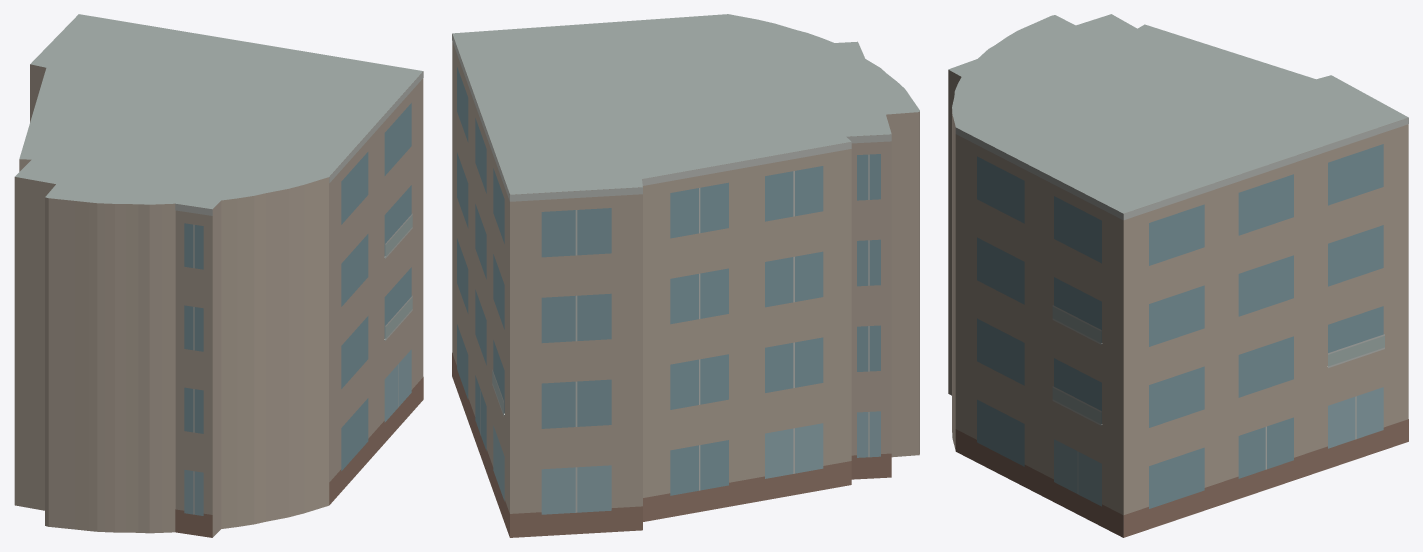
File: survey-upis-32939359.glb
3 renders of one model, left to right at view 1: azimuth 30°, elevation 25°; view 2: azimuth 150°, elevation 25°; view 3: azimuth 270°, elevation 25°, orthographic. The views are drawn at different scales.
Visible parts, largest first — view 1: survey-upis-32939359.tmp; view 2: survey-upis-32939359.tmp; view 3: survey-upis-32939359.tmp.
Part boxes in pixels (<box>): survey-upis-32939359.tmp: <box>14,14,423,537</box>; survey-upis-32939359.tmp: <box>452,14,919,537</box>; survey-upis-32939359.tmp: <box>948,14,1408,537</box>.
Size of the model in its own units: 15.66 by 11.85 by 15.27.
